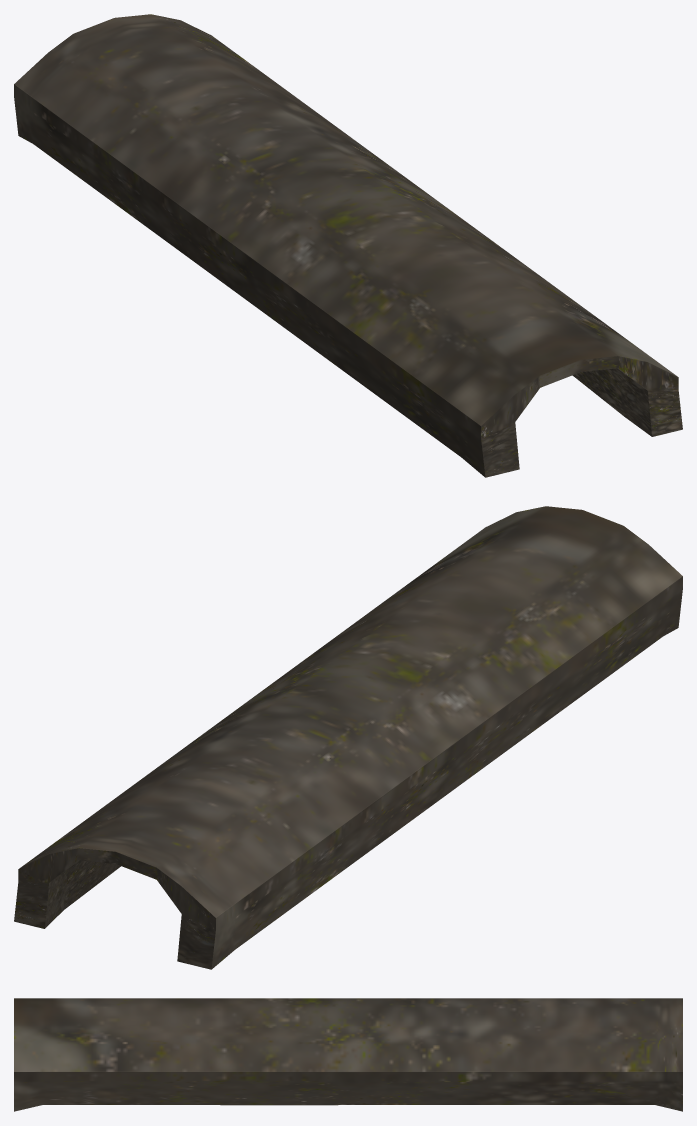
Rendered from CeilingOne.fbx.
3 renders of one model, top to bottom at view 1: azimuth 30°, elevation 25°; view 2: azimuth 150°, elevation 25°; view 3: azimuth 270°, elevation 25°, orthographic. The views are drawn at different scales.
Visible parts, largest first — view 1: polySurface25; view 2: polySurface25; view 3: polySurface25.
Part boxes in pixels (left/top/right/bottom): polySurface25: left=14, top=14, right=682, bottom=477; polySurface25: left=14, top=506, right=682, bottom=969; polySurface25: left=14, top=998, right=682, bottom=1111.
Size of the model in its own units: 861 by 385 by 3450.
Materials: 1 (1 with a texture image).
